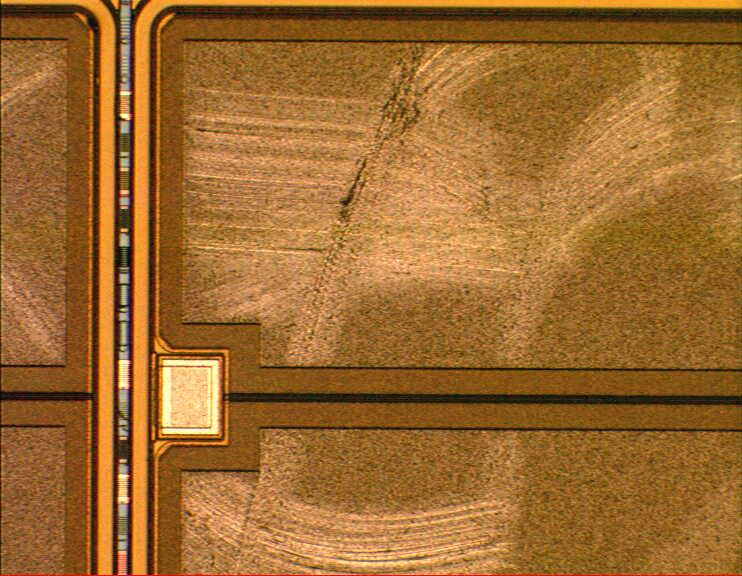SCRATCH: (1, 39, 742, 576)
